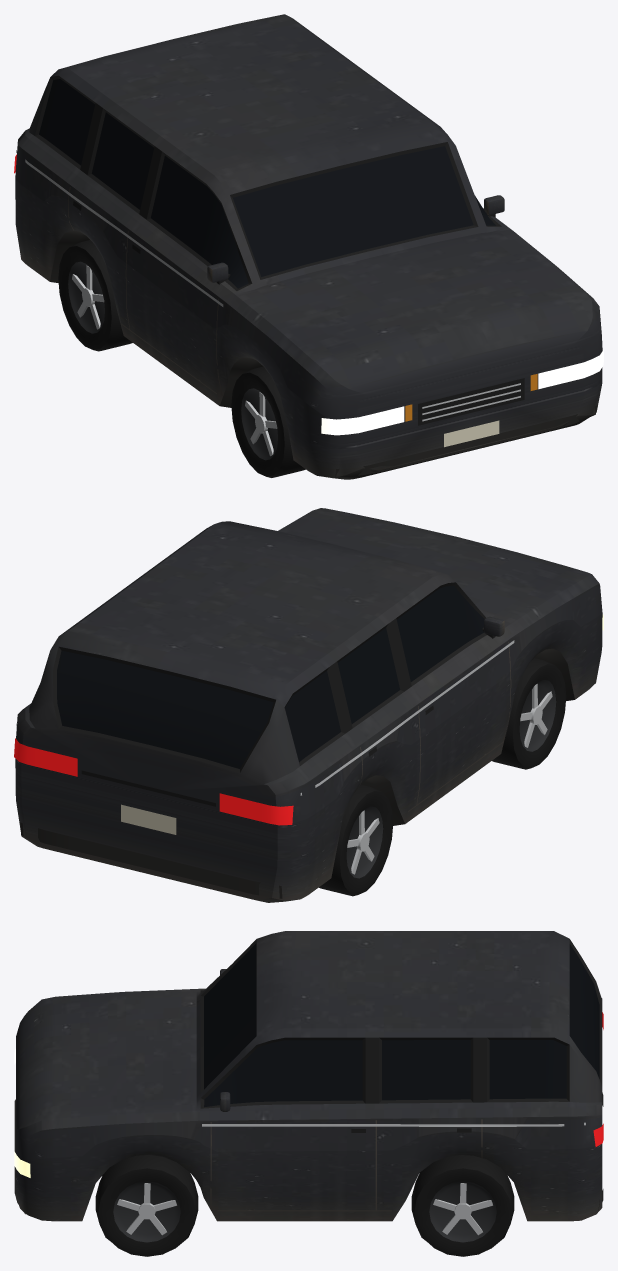
File: suv-luxury.glb
The picture shows the model from 3 angles, top to bottom: view 1: azimuth 30°, elevation 25°; view 2: azimuth 150°, elevation 25°; view 3: azimuth 270°, elevation 25°; orthographic projection. The views are drawn at different scales.
Parts seen in each view (by area): view 1: body, wheel-back-right, wheel-front-right, wheel-front-right.1, wheel-back-right.1; view 2: body, wheel-front-right, wheel-back-right, wheel-back-right.1, wheel-front-right.1; view 3: body, wheel-front-left, wheel-back-left, wheel-front-left.1, wheel-back-left.1.
Boxes of the visible parts, x1,y1,x2,y2 form: body: (14,14,603,479); wheel-back-right: (58,240,132,351); wheel-front-right: (231,366,305,477); wheel-front-right.1: (241,388,277,460); wheel-back-right.1: (68,261,104,333); body: (14,508,603,902); wheel-front-right: (492,658,566,769); wheel-back-right: (319,784,393,896); wheel-back-right.1: (346,806,383,878); wheel-front-right.1: (519,680,556,751); body: (14,931,603,1221); wheel-front-left: (95,1155,198,1256); wheel-back-left: (411,1155,514,1256); wheel-front-left.1: (113,1181,180,1242); wheel-back-left.1: (429,1181,496,1242).
Bounding box in the file's own units: 1.5 × 1.15 × 2.84.
Materials: 12 (1 with a texture image).
